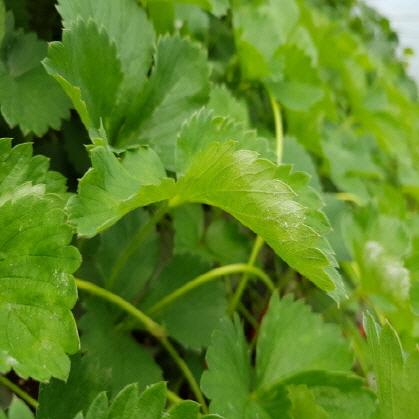Powdery Mildew Leaf: (169, 138, 348, 308), (0, 179, 83, 384)
